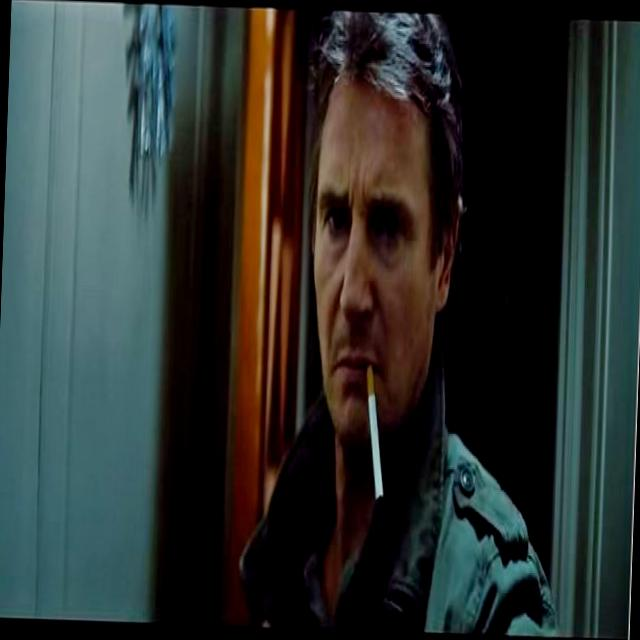smoke: (356, 333, 394, 520)
